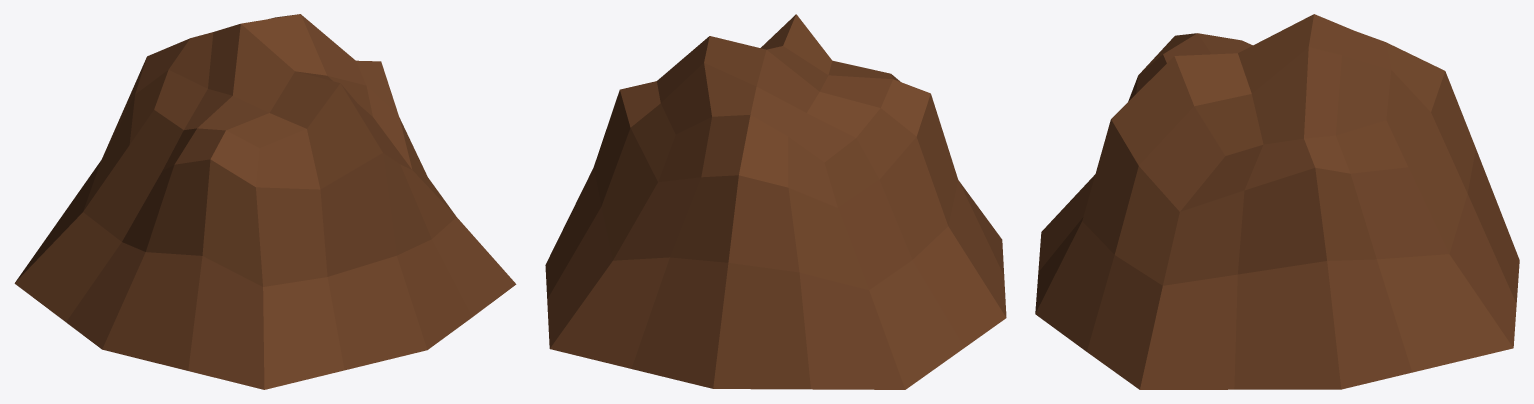
Rendered from mont2.gltf.
3 views of the same model, side by side, from view 1: azimuth 30°, elevation 25°; view 2: azimuth 150°, elevation 25°; view 3: azimuth 270°, elevation 25° (orthographic). The views are drawn at different scales.
Visible parts, largest first — view 1: Cube.010; view 2: Cube.010; view 3: Cube.010.
Part boxes in pixels (x1,y1,x2,y2): Cube.010: (14, 14, 516, 389); Cube.010: (545, 14, 1006, 389); Cube.010: (1035, 14, 1519, 389).
Bounding box in the file's own units: 8.39 × 5.2 × 8.39.
